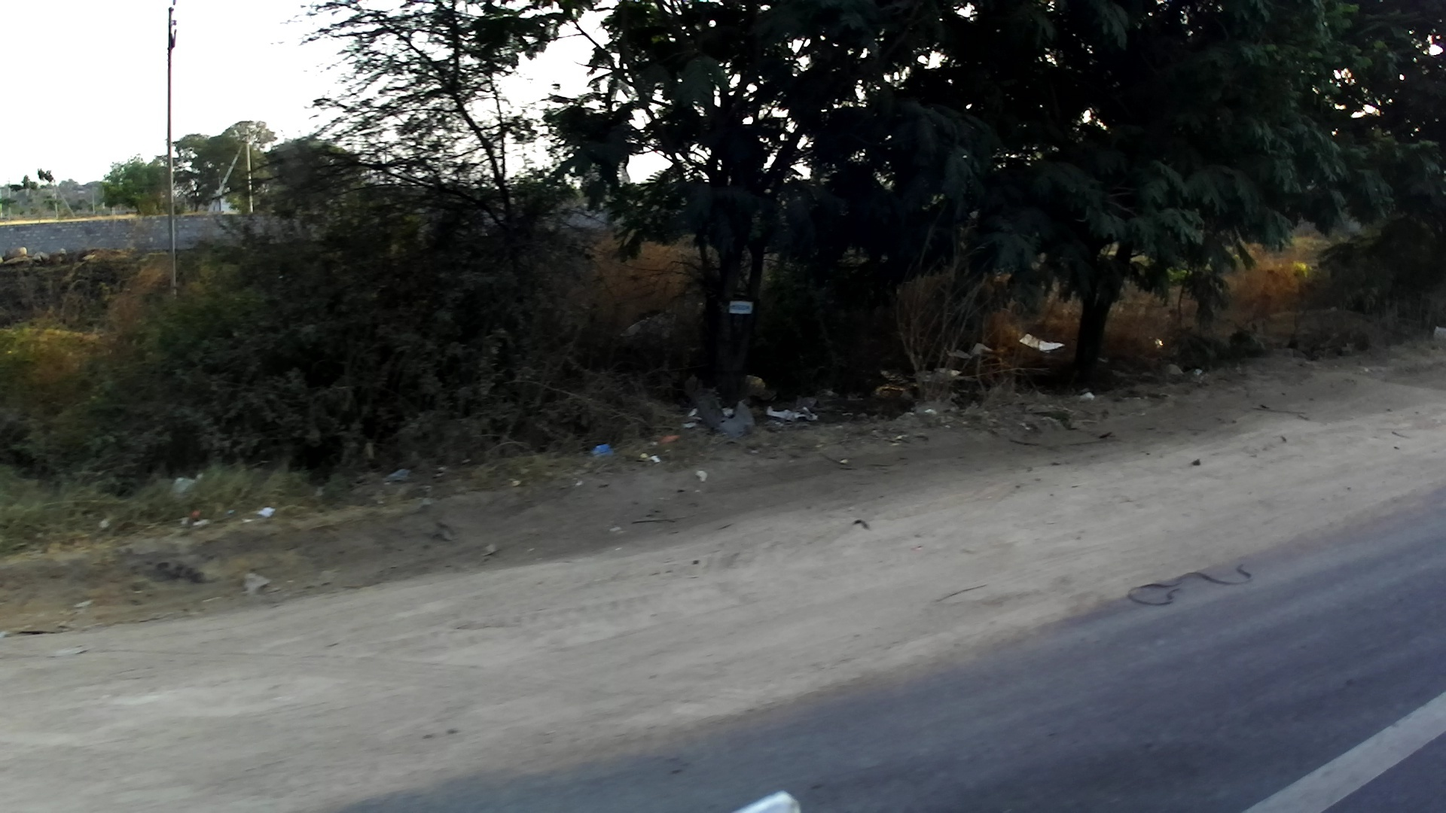animal: (1123, 551, 1252, 609)
